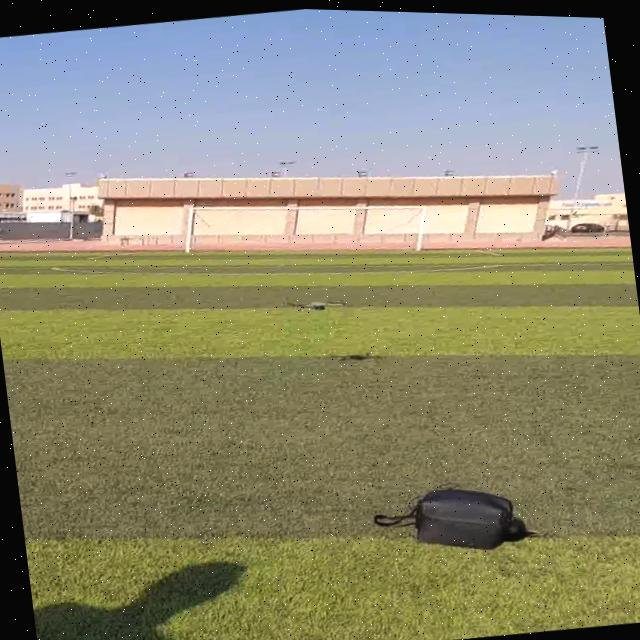drone: (245, 277, 354, 338)
